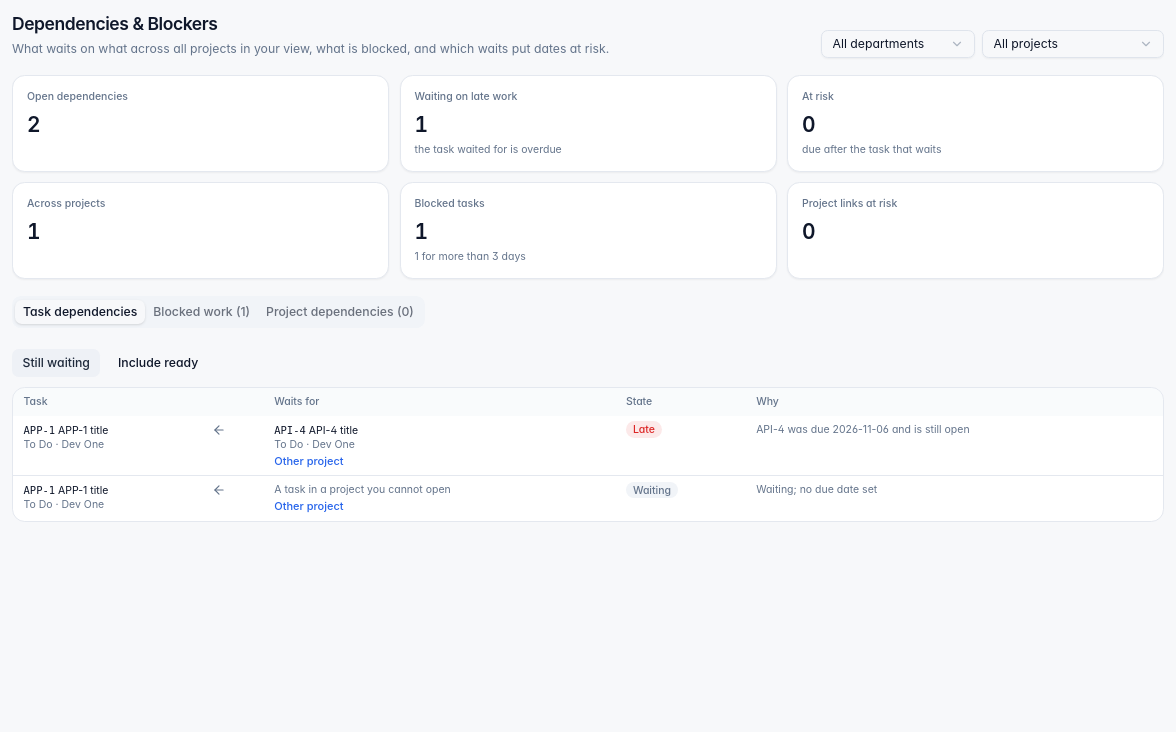
Scenario: Dependencies & Blockers › lists waits with their state, hides other projects, and shows blocked work
Expected: the text "API-4 was due 2026-11-06 and is still open" is shown, [746,416,1163,476]
Expected: the text "A task in a project you cannot open" is shown, [274,483,451,496]
Click the tab "Blocked work (1)".
click(202, 312)  # box [145,300,258,324]
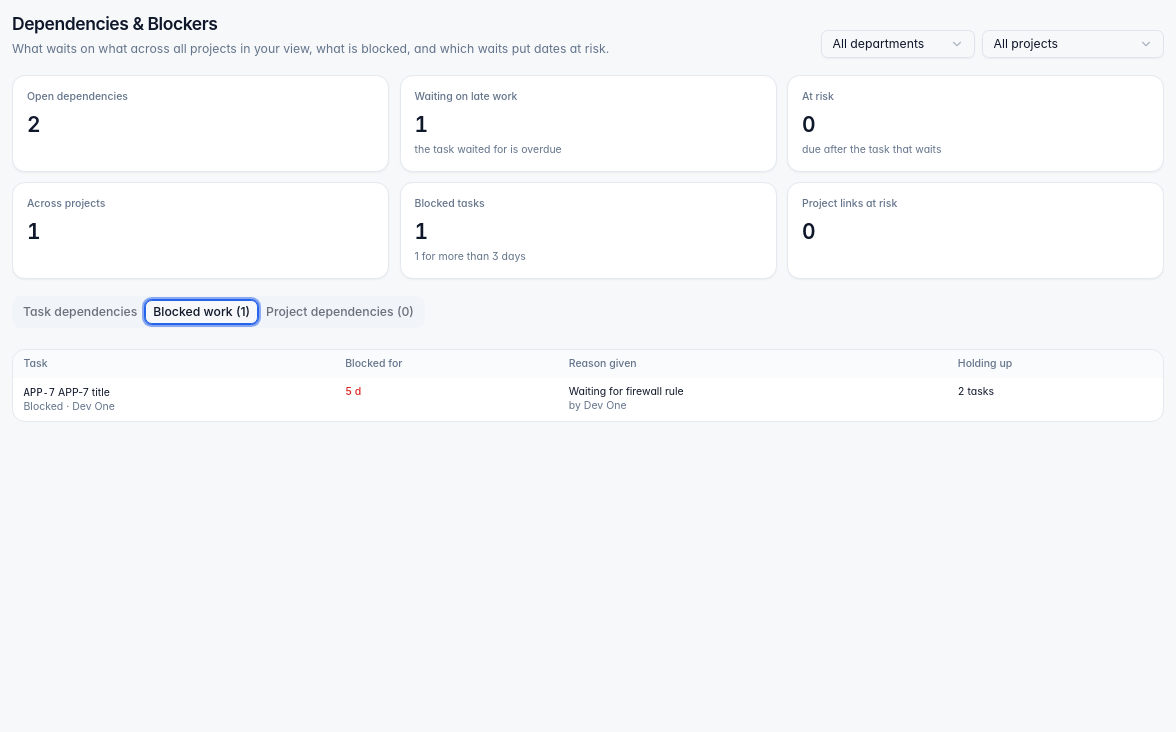
Expected: the text "Waiting for firewall rule" is shown, [569,384,684,398]
Expected: the text "2 tasks" is shown, [947,378,1163,420]
